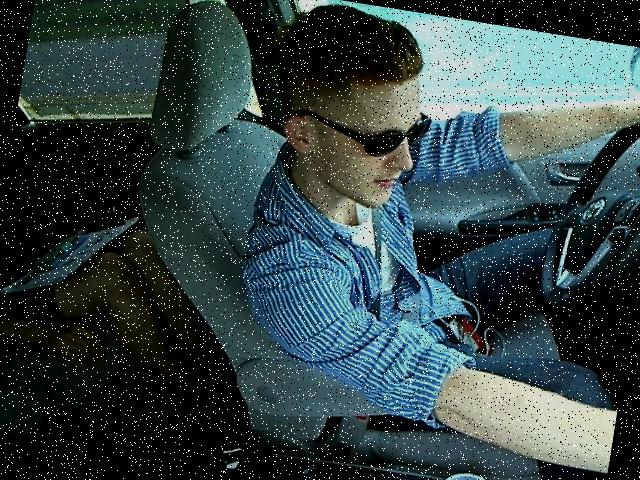c3 - Operating the Radio: (215, 0, 639, 479)
